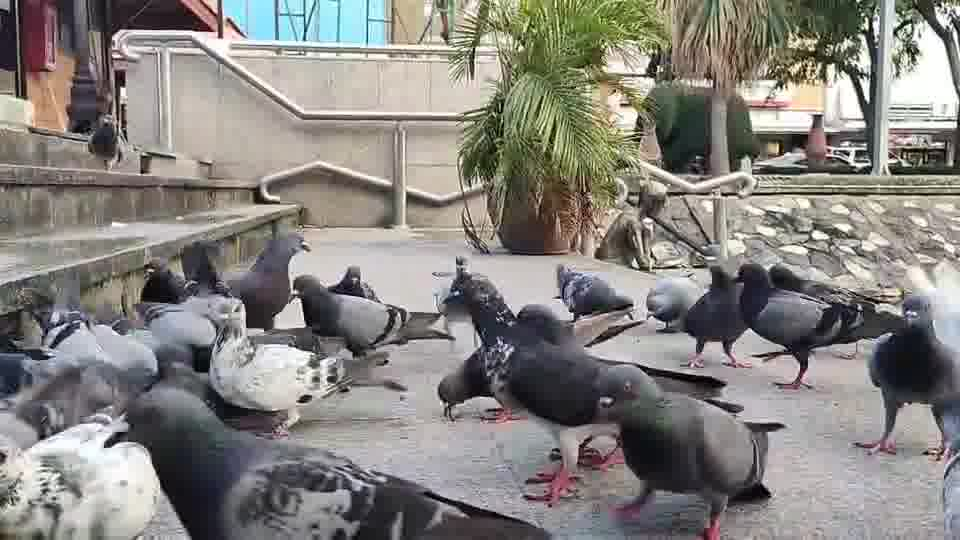Pigeon: (123, 383, 551, 539), (597, 362, 786, 538), (202, 294, 352, 435), (852, 293, 958, 458), (732, 261, 864, 390), (287, 272, 408, 360), (207, 230, 312, 330), (681, 263, 755, 369), (553, 261, 634, 322), (326, 264, 377, 345), (645, 272, 704, 332)
